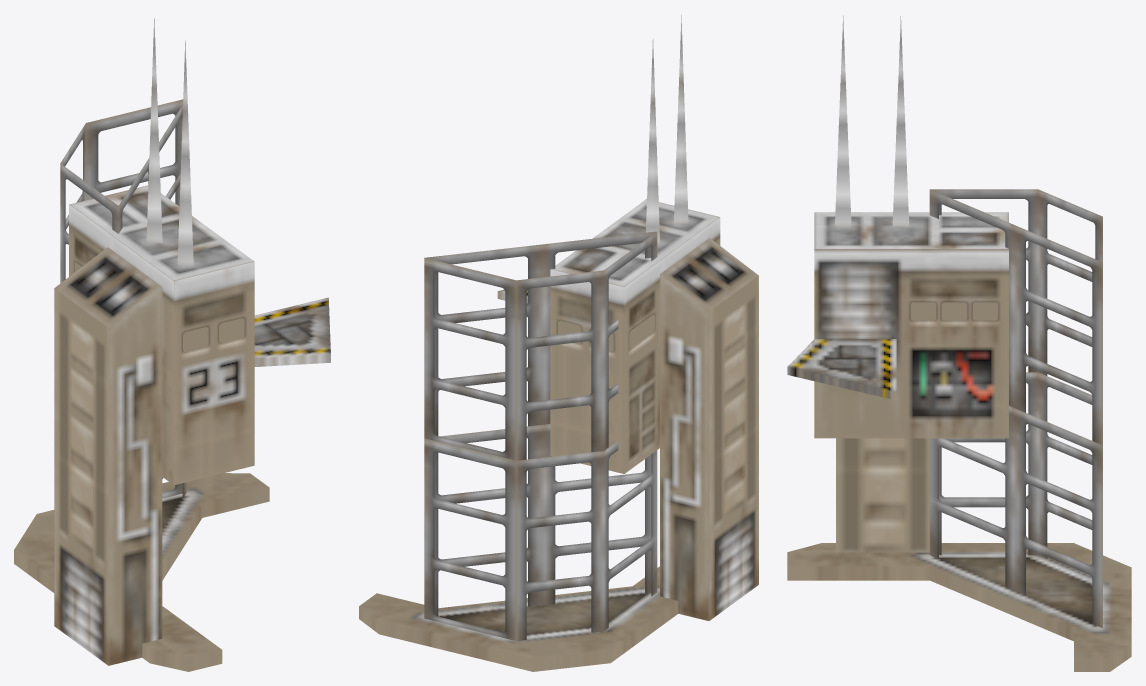
Rendered from gantry.glb.
3 renders of one model, left to right at view 1: azimuth 30°, elevation 25°; view 2: azimuth 150°, elevation 25°; view 3: azimuth 270°, elevation 25°, orthographic. The views are drawn at different scales.
Visible parts, largest first — view 1: Gantry, LitWin_Gantry; view 2: Gantry, LitWin_Gantry; view 3: Gantry, LitWin_Gantry.
Boxes of the visible parts, x1,y1,x2,y2 form: Gantry: (14, 18, 330, 671); LitWin_Gantry: (74, 262, 244, 351); Gantry: (359, 15, 758, 671); LitWin_Gantry: (558, 314, 654, 351); Gantry: (787, 15, 1131, 671); LitWin_Gantry: (910, 302, 998, 320).
Size of the model in its own units: 18.45 by 36.98 by 20.49.
Materials: 1 (1 with a texture image).
